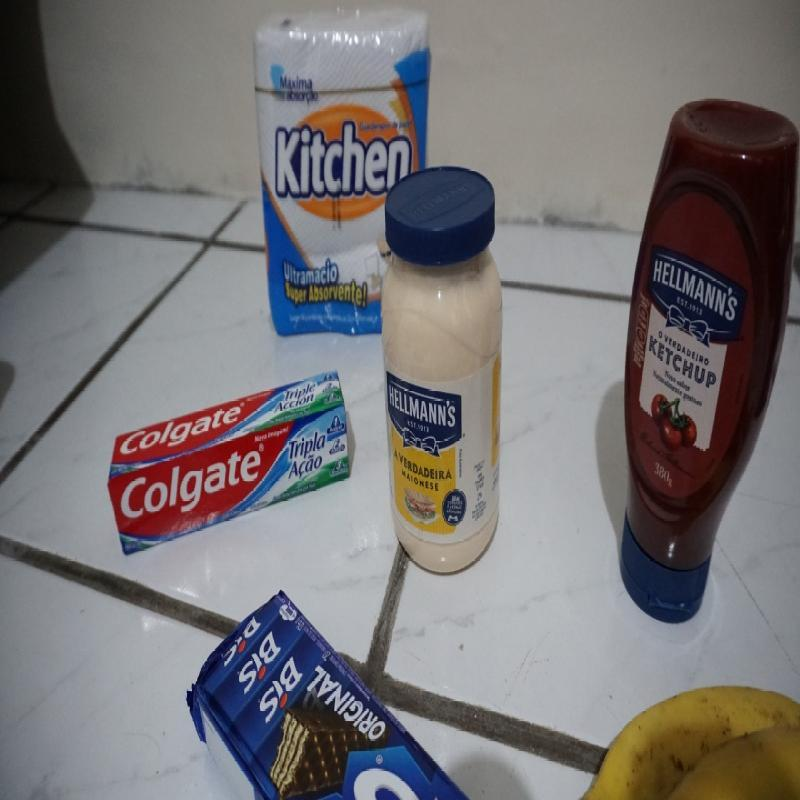Banana: (579, 683, 799, 799)
Ketchup: (622, 96, 800, 624)
Mayonnaise: (382, 168, 503, 576)
Napkin: (254, 9, 434, 336)
Toothpaste: (110, 371, 350, 556)
